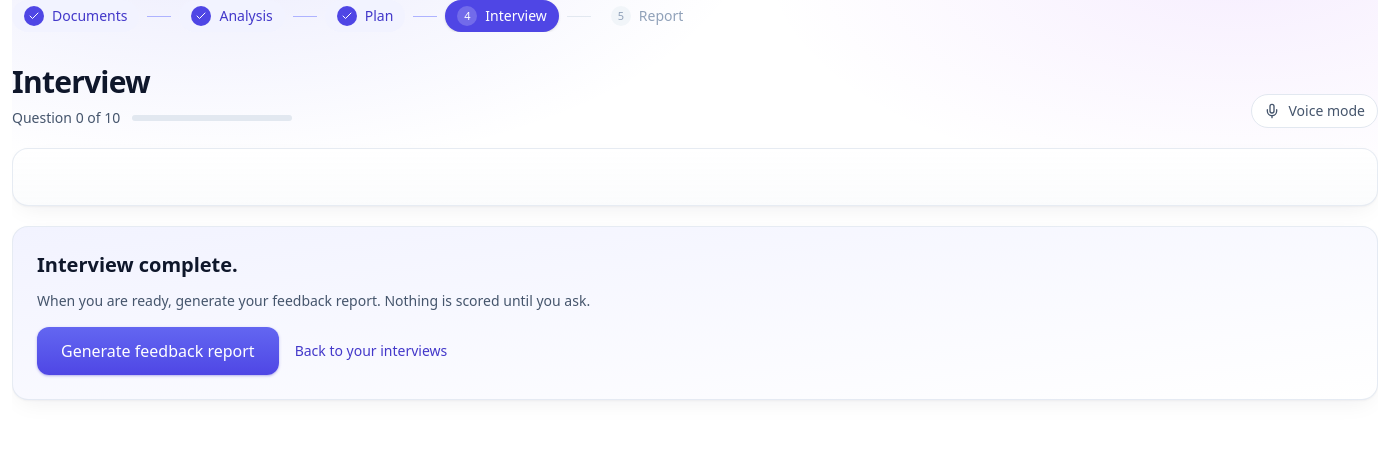
Interview room › shows why a report could not be started
Click the button "Generate feedback report" at (158,351), box [37,327,279,375]
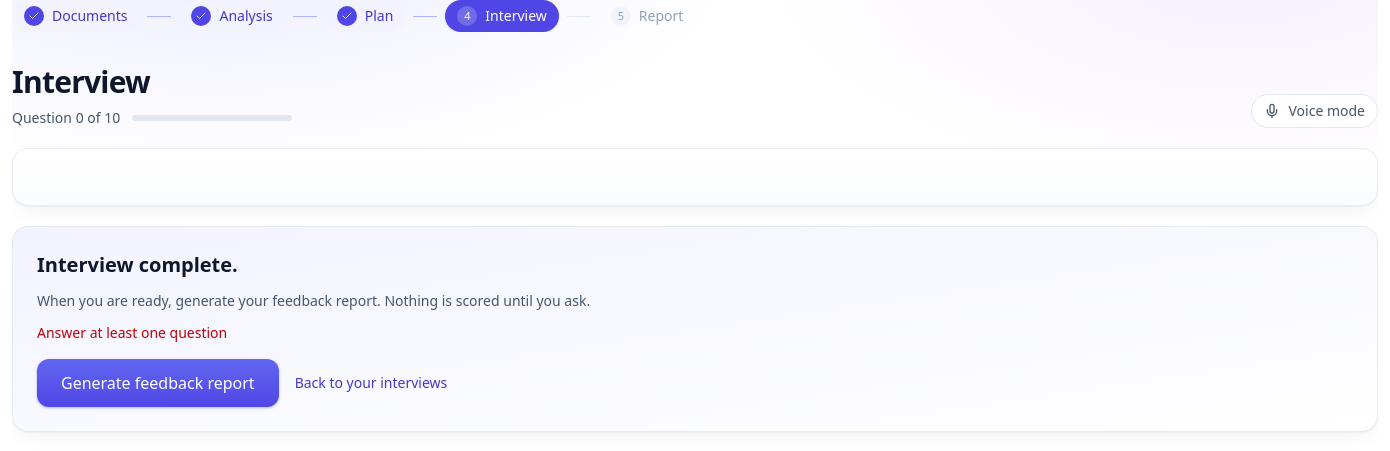
Result: the message reads "Answer at least one question" at [37,323,227,342]
